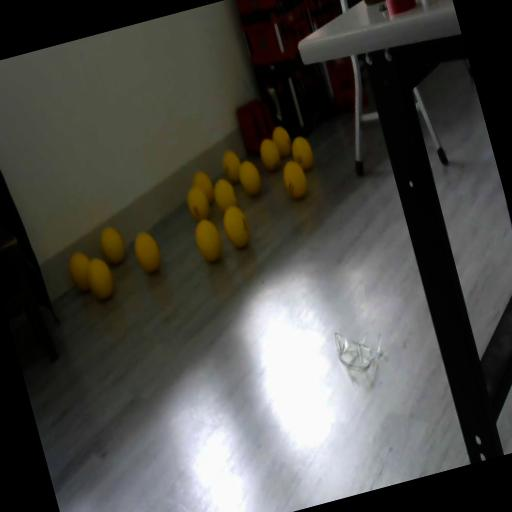FUEL: (189, 214, 227, 264), (128, 226, 166, 276), (81, 252, 118, 302), (218, 201, 254, 251), (278, 157, 311, 202), (96, 224, 128, 267), (208, 174, 240, 214), (235, 158, 264, 198), (288, 132, 316, 172), (190, 167, 218, 206), (256, 134, 284, 172), (218, 147, 246, 184), (268, 122, 294, 158)
